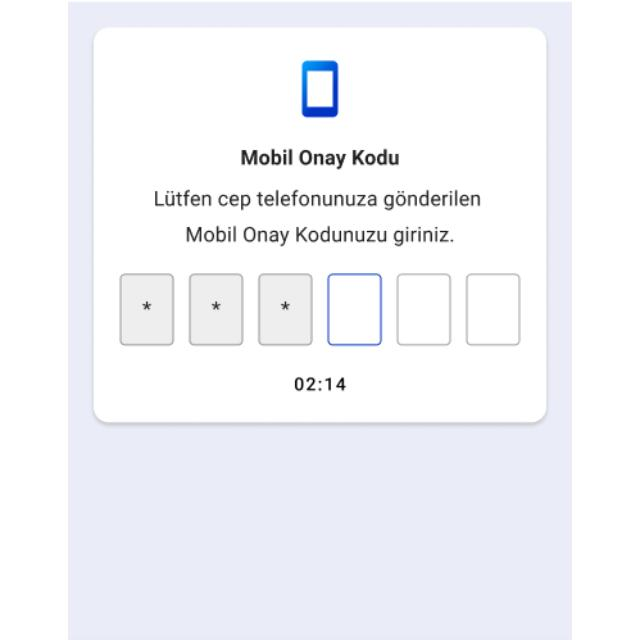QLabel: (147, 184, 483, 212), (182, 222, 456, 248), (238, 145, 400, 171), (288, 370, 352, 398)
QOtp: (115, 267, 525, 349)
VCard: (93, 27, 547, 423)
VImg: (298, 56, 342, 122)
